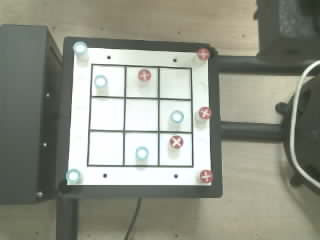blue circle: (73, 41, 88, 55), (66, 169, 80, 183), (136, 146, 149, 161), (170, 110, 183, 123), (94, 75, 107, 88)
board: (66, 41, 214, 185)
cells: (89, 132, 122, 165), (125, 133, 157, 165), (125, 99, 157, 130), (91, 98, 123, 129), (160, 134, 191, 166), (160, 68, 191, 99), (160, 100, 191, 131), (92, 66, 124, 96), (127, 67, 157, 97)
grid: (87, 64, 193, 167)
red cross: (199, 107, 212, 120), (170, 136, 183, 148), (200, 170, 212, 183), (197, 48, 209, 60), (138, 69, 151, 80)
